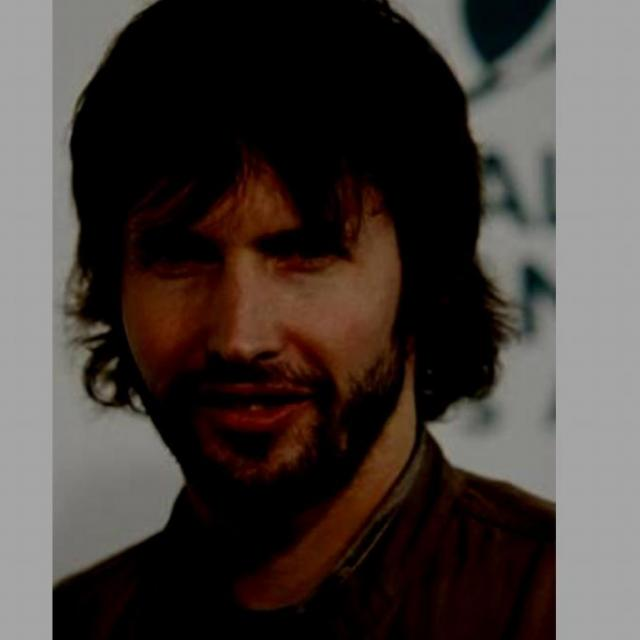live: (94, 112, 432, 523)
